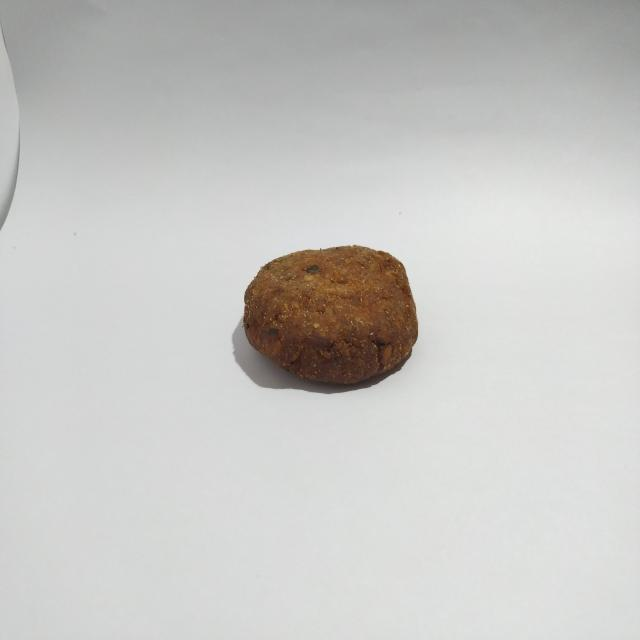Food: (234, 222, 431, 405)
